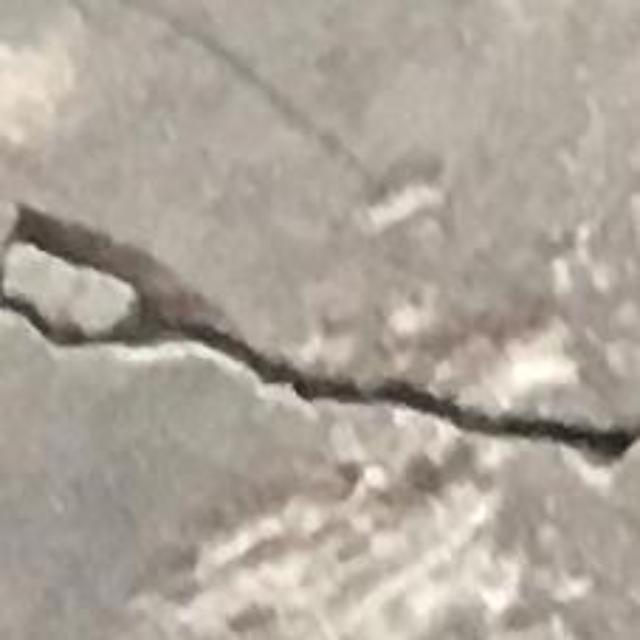crack: (9, 203, 639, 456)
peeling plaster: (480, 325, 577, 408)
